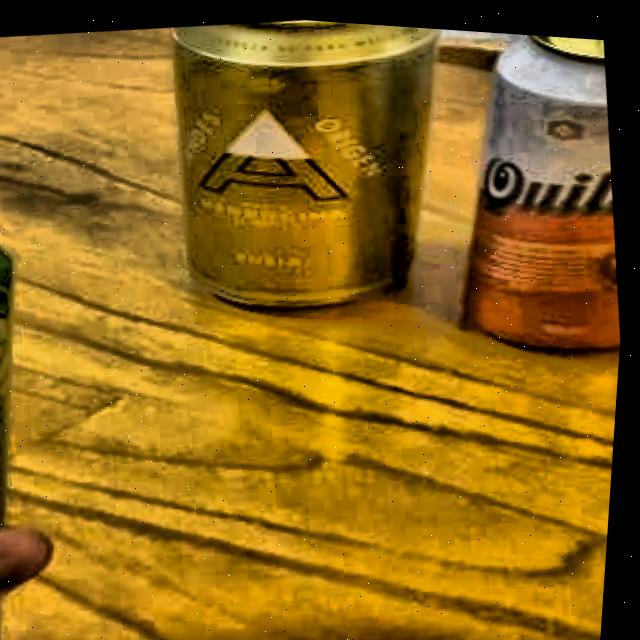metal: (136, 8, 482, 339), (416, 23, 640, 381)
